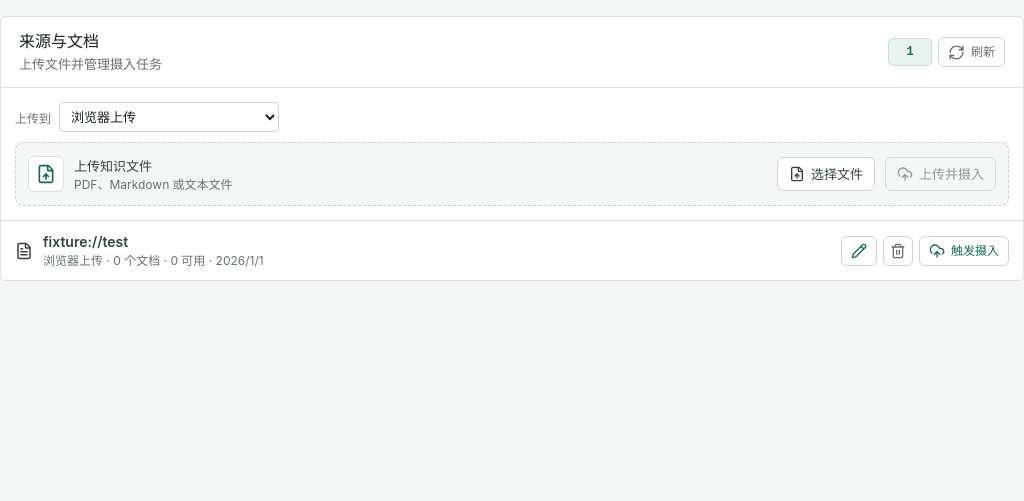
Test: SourcesPanel task controls › renders a cancellation response as a terminal cancelled task
Click the button "触发摄入".
click(964, 250)  # box 919,236 -> 1009,266
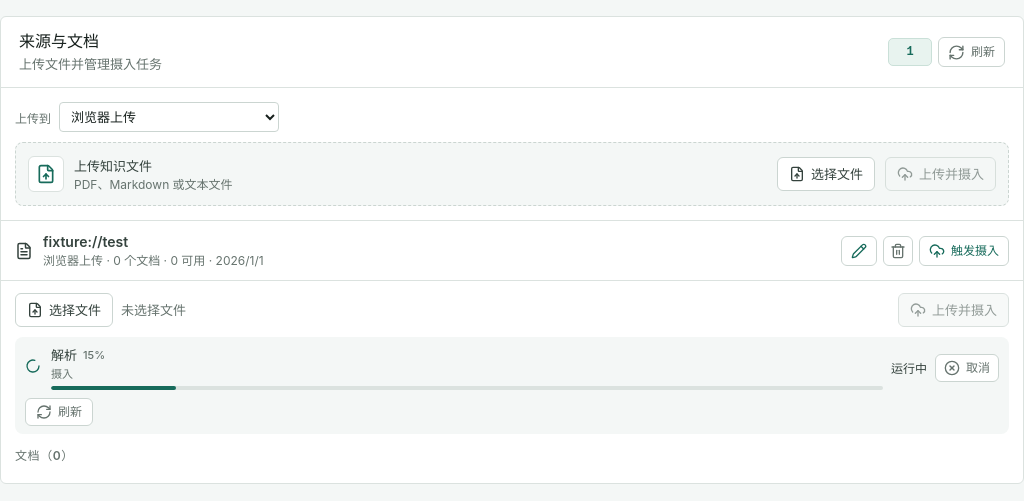
Click the button with aria-label "取消任务".
click(967, 368)  # box 935,354 -> 999,382
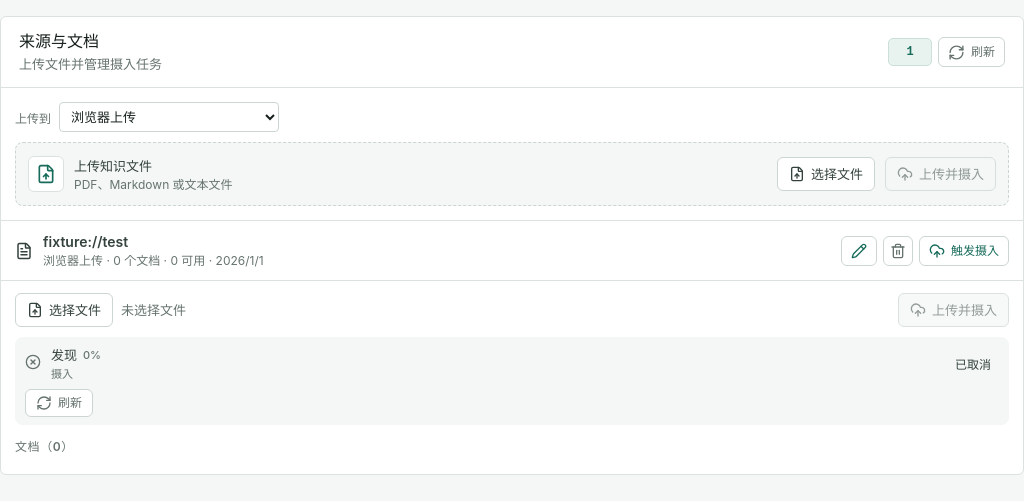
Expected: the text "已取消" is shown, 955,354 -> 991,372
